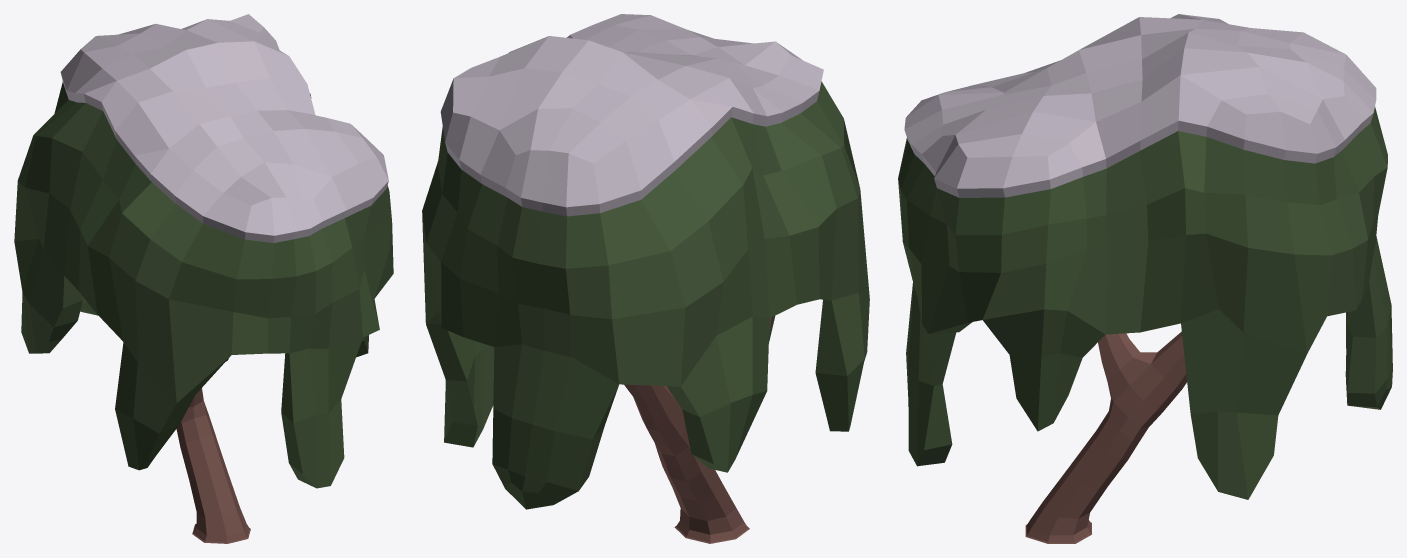
File: willow_snow_4.glb
3 views of the same model, side by side, from view 1: azimuth 30°, elevation 25°; view 2: azimuth 150°, elevation 25°; view 3: azimuth 270°, elevation 25° (orthographic). The views are drawn at different scales.
Parts seen in each view (by area): view 1: Willow_Snow_4; view 2: Willow_Snow_4; view 3: Willow_Snow_4.
Part boxes in pixels (x1,y1,x2,y2): Willow_Snow_4: (14, 14, 393, 543); Willow_Snow_4: (422, 14, 869, 543); Willow_Snow_4: (898, 14, 1392, 543).
Size of the model in its own units: 5.25 by 8.31 by 7.31.
